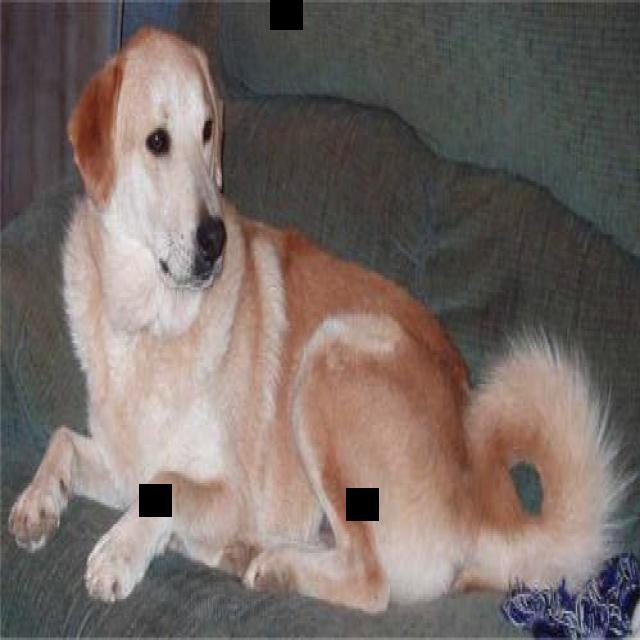adult_dog: (10, 28, 626, 615)
